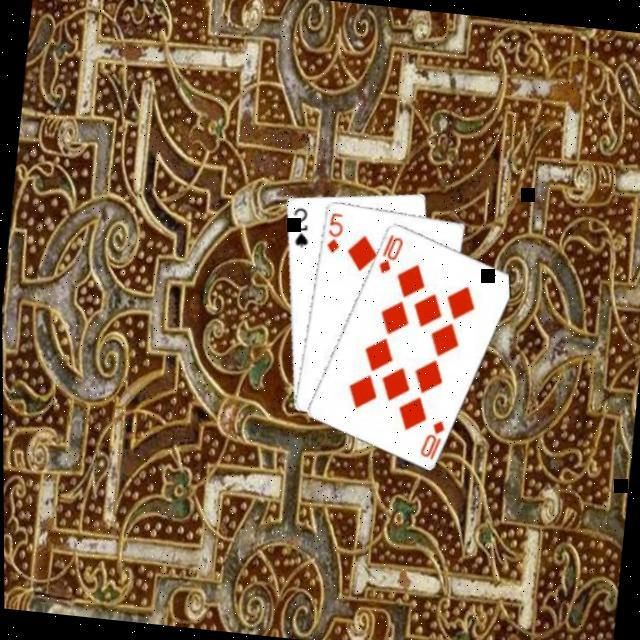10D: (413, 415, 446, 464), (372, 230, 405, 278)
2S: (284, 204, 312, 252)
5D: (320, 209, 346, 257)
